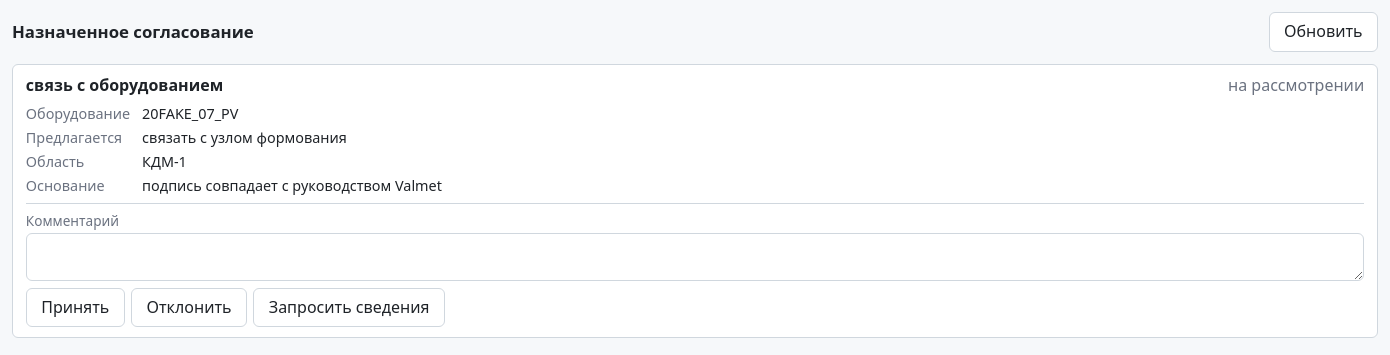
Test: analytics_reviews_decide_409_shows_conflict_text_and_reloads_list
Expected: the text "связать с узлом формования" is shown, top-left (142, 128), bottom-right (347, 147)
Click the button "Принять" at (75, 308), box top-left (26, 288), bottom-right (125, 328)
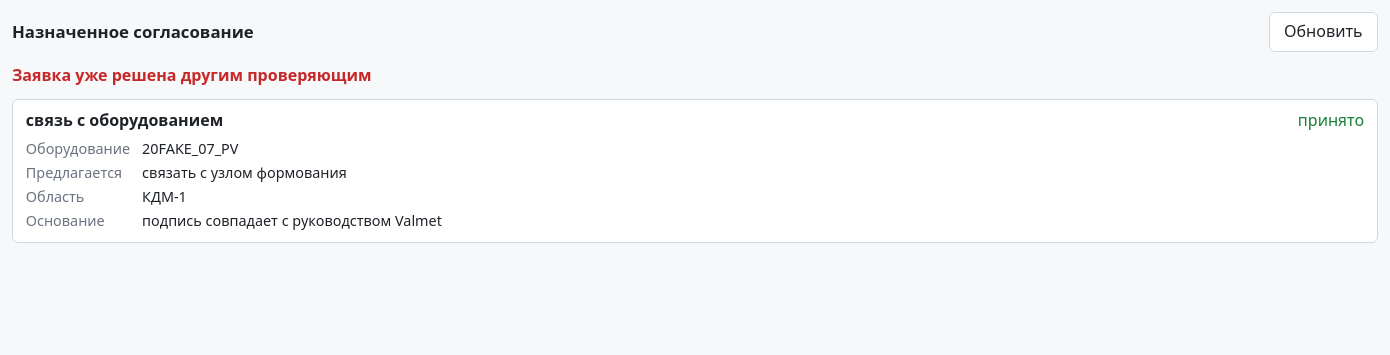
Expected: the message reads "Заявка уже решена другим проверяющим", top-left (12, 64), bottom-right (372, 86)
